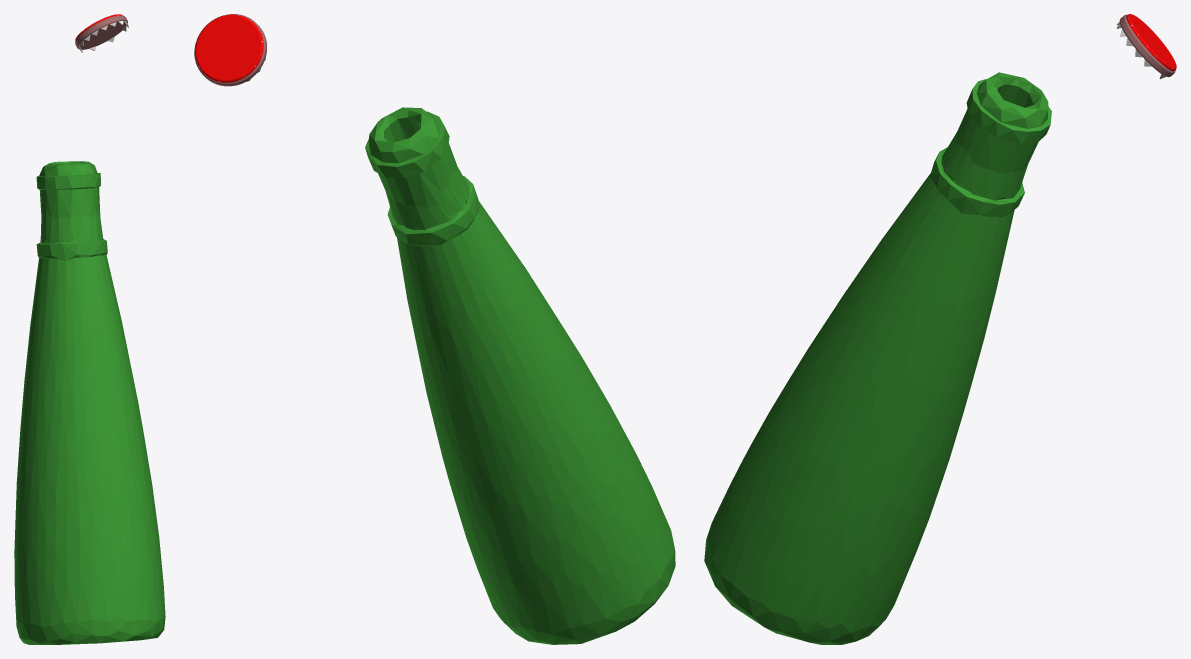
File: Bottle.obj
3 renders of one model, left to right at view 1: azimuth 30°, elevation 25°; view 2: azimuth 150°, elevation 25°; view 3: azimuth 270°, elevation 25°, orthographic. The views are drawn at different scales.
Visible parts, largest first — view 1: model_2, model_0; view 2: model_2, model_0; view 3: model_2, model_0.
Boxes of the visible parts, x1=… form: model_2: x1=14, y1=161, x2=165, y2=644; model_0: x1=75, y1=14, x2=128, y2=50; model_2: x1=365, y1=107, x2=675, y2=644; model_0: x1=194, y1=14, x2=266, y2=86; model_2: x1=704, y1=72, x2=1051, y2=644; model_0: x1=1117, y1=14, x2=1176, y2=77.
Size of the model in its own units: 208 by 450 by 277.
Materials: 3 (3 with a texture image).
